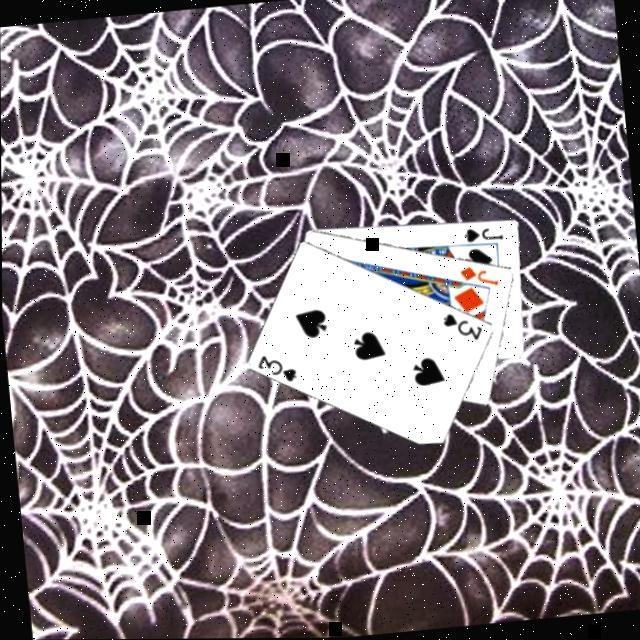3S: (436, 310, 484, 348), (251, 352, 298, 389)
JD: (454, 262, 498, 294)
JS: (458, 224, 503, 248)
